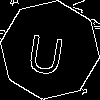U: (25, 25, 68, 76)
